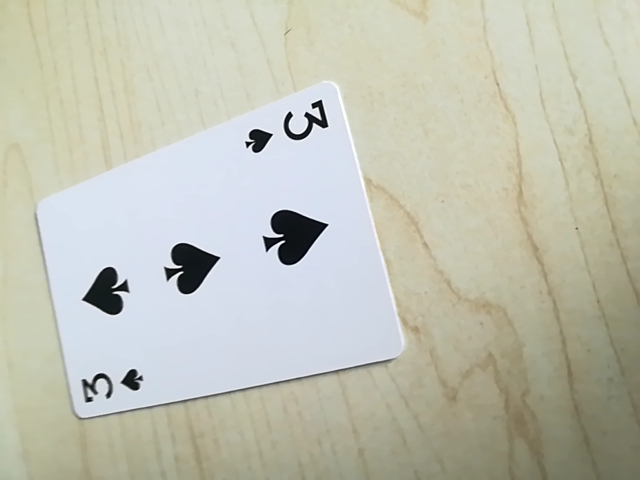ht 3: (243, 97, 333, 158), (74, 359, 150, 411)
